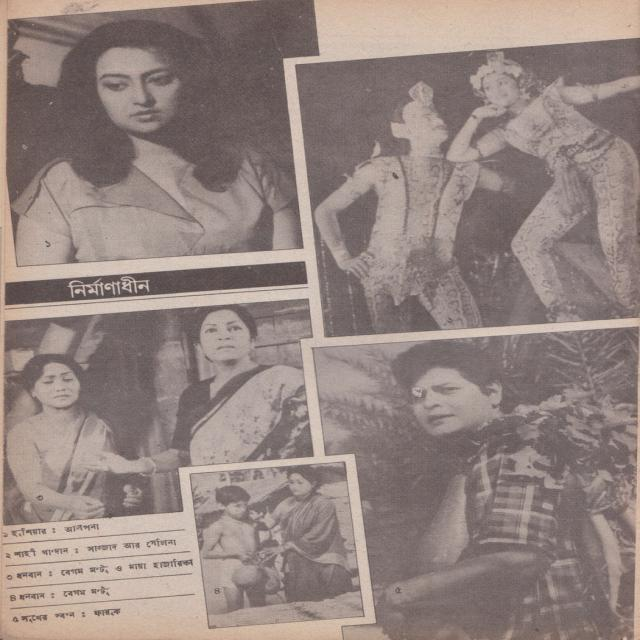image: (311, 327, 637, 640), (298, 40, 639, 336), (7, 0, 318, 265), (5, 299, 315, 525), (188, 461, 365, 629)
text: (6, 556, 195, 581), (5, 538, 179, 559), (12, 607, 124, 624), (8, 585, 111, 603), (2, 522, 101, 540)
title: (68, 276, 149, 296)
